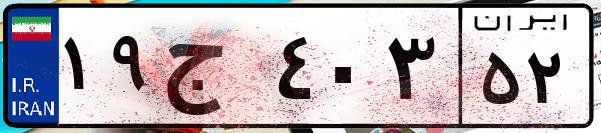0: (330, 28, 385, 110)
1: (57, 26, 110, 100)
2: (525, 38, 570, 115)
3: (385, 28, 445, 110)
4: (270, 28, 330, 110)
5: (475, 38, 525, 113)
9: (110, 28, 158, 98)
ج: (158, 20, 270, 120)
